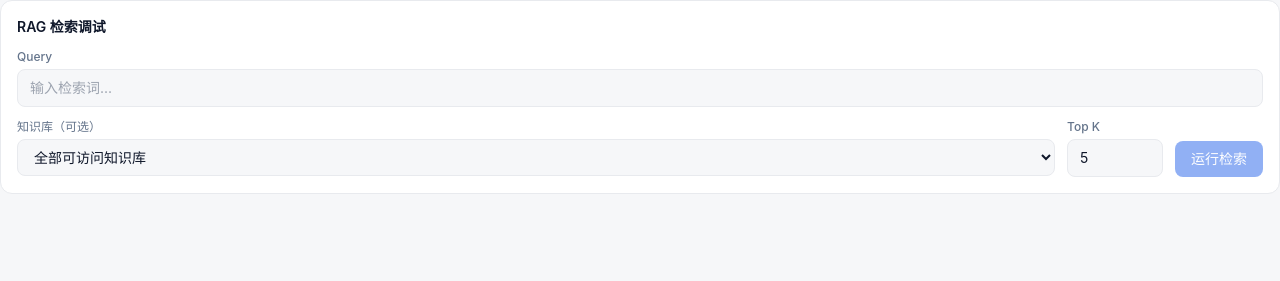
Test case: RAGDebugPanel › API 失败显示错误
Type "test" into the field with placeholder "输入检索词..." at (640, 88), box [17, 69, 1263, 107]
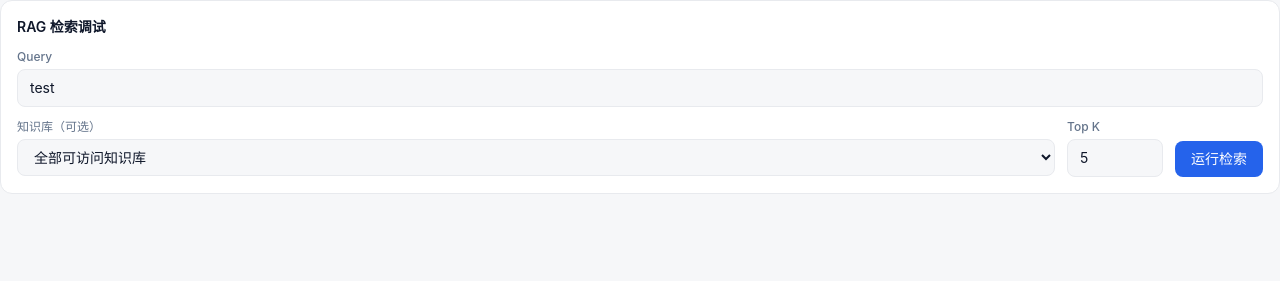
Click the button "运行检索" at (1219, 159), box [1175, 141, 1263, 177]
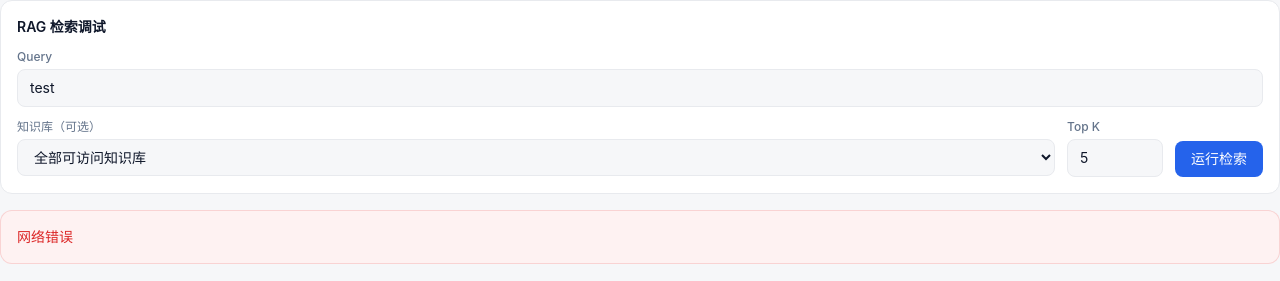
Result: the text "网络错误" is shown at [0, 210, 1279, 264]
